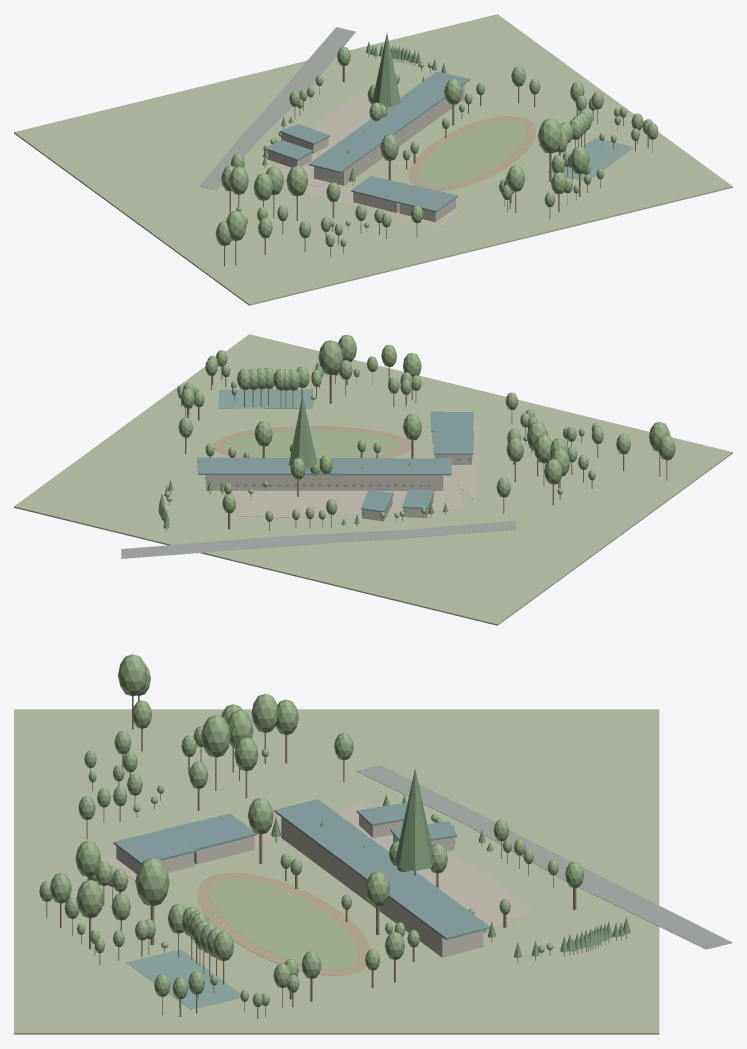
Rendered from campus.glb.
3 views of the same model, one above another, from view 1: azimuth 30°, elevation 25°; view 2: azimuth 150°, elevation 25°; view 3: azimuth 270°, elevation 25° (orthographic). The views are drawn at different scales.
Parts seen in each view (by area): view 1: ground, grass, B01_roof, road, courtyard, track, B01_walls, court, MOE212376_crown, B02a_roof, B02b_roof, western_paving (+7 smaller); view 2: ground, courtyard, road, B01_roof, B01_walls, grass, court, track, MOE212376_crown, B02a_roof, western_paving, B02b_roof (+3 smaller); view 3: ground, grass, B01_roof, road, courtyard, B01_walls, track, court, MOE212376_crown, B02a_roof, B02b_roof, MOE212453_crown (+14 smaller).
Boxes of the visible parts, x1=… form: ground: x1=14, y1=14, x2=732, y2=305; grass: x1=418, y1=120, x2=526, y2=186; B01_roof: x1=308, y1=71, x2=469, y2=172; road: x1=199, y1=27, x2=355, y2=190; courtyard: x1=275, y1=91, x2=402, y2=187; track: x1=408, y1=116, x2=535, y2=190; B01_walls: x1=314, y1=84, x2=464, y2=185; court: x1=548, y1=137, x2=633, y2=180; MOE212376_crown: x1=372, y1=32, x2=400, y2=106; B02a_roof: x1=351, y1=176, x2=416, y2=203; B02b_roof: x1=398, y1=186, x2=457, y2=212; western_paving: x1=282, y1=185, x2=461, y2=227; ground: x1=14, y1=334, x2=732, y2=625; courtyard: x1=230, y1=477, x2=464, y2=517; road: x1=121, y1=520, x2=515, y2=558; B01_roof: x1=197, y1=457, x2=451, y2=475; B01_walls: x1=205, y1=475, x2=443, y2=490; grass: x1=224, y1=430, x2=401, y2=457; court: x1=218, y1=389, x2=313, y2=408; track: x1=214, y1=426, x2=411, y2=458; MOE212376_crown: x1=288, y1=394, x2=317, y2=468; B02a_roof: x1=432, y1=430, x2=473, y2=454; western_paving: x1=447, y1=419, x2=478, y2=501; B02b_roof: x1=430, y1=411, x2=473, y2=432; ground: x1=14, y1=709, x2=659, y2=1034; grass: x1=210, y1=878, x2=358, y2=969; B01_roof: x1=274, y1=799, x2=490, y2=939; road: x1=356, y1=765, x2=732, y2=949; courtyard: x1=281, y1=803, x2=532, y2=931; B01_walls: x1=281, y1=817, x2=483, y2=957; track: x1=197, y1=872, x2=370, y2=975; court: x1=126, y1=949, x2=240, y2=1009; MOE212376_crown: x1=395, y1=768, x2=433, y2=870; B02a_roof: x1=165, y1=813, x2=257, y2=850; B02b_roof: x1=113, y1=829, x2=196, y2=864; MOE212453_crown: x1=135, y1=858, x2=169, y2=906.
Size of the model in its own units: 187 by 35.95 by 176.
